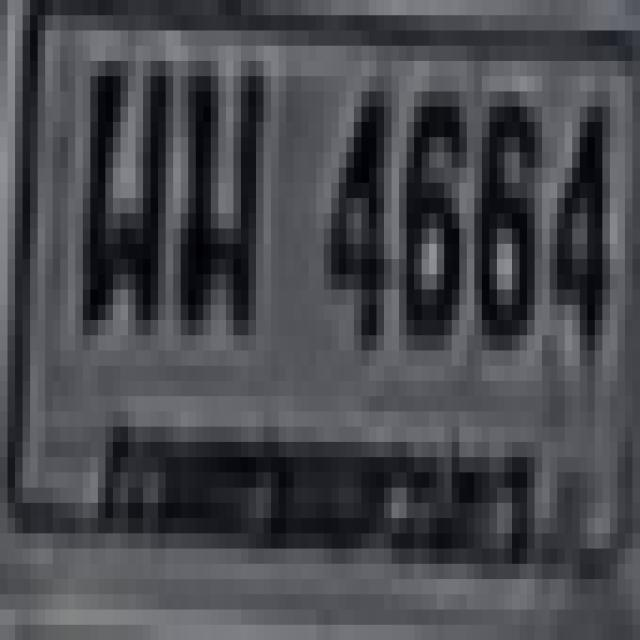4: (324, 76, 384, 335), (550, 92, 602, 336)
6: (399, 76, 459, 335), (474, 92, 534, 336)
A28: (75, 46, 166, 320)
A33: (173, 61, 264, 320)
